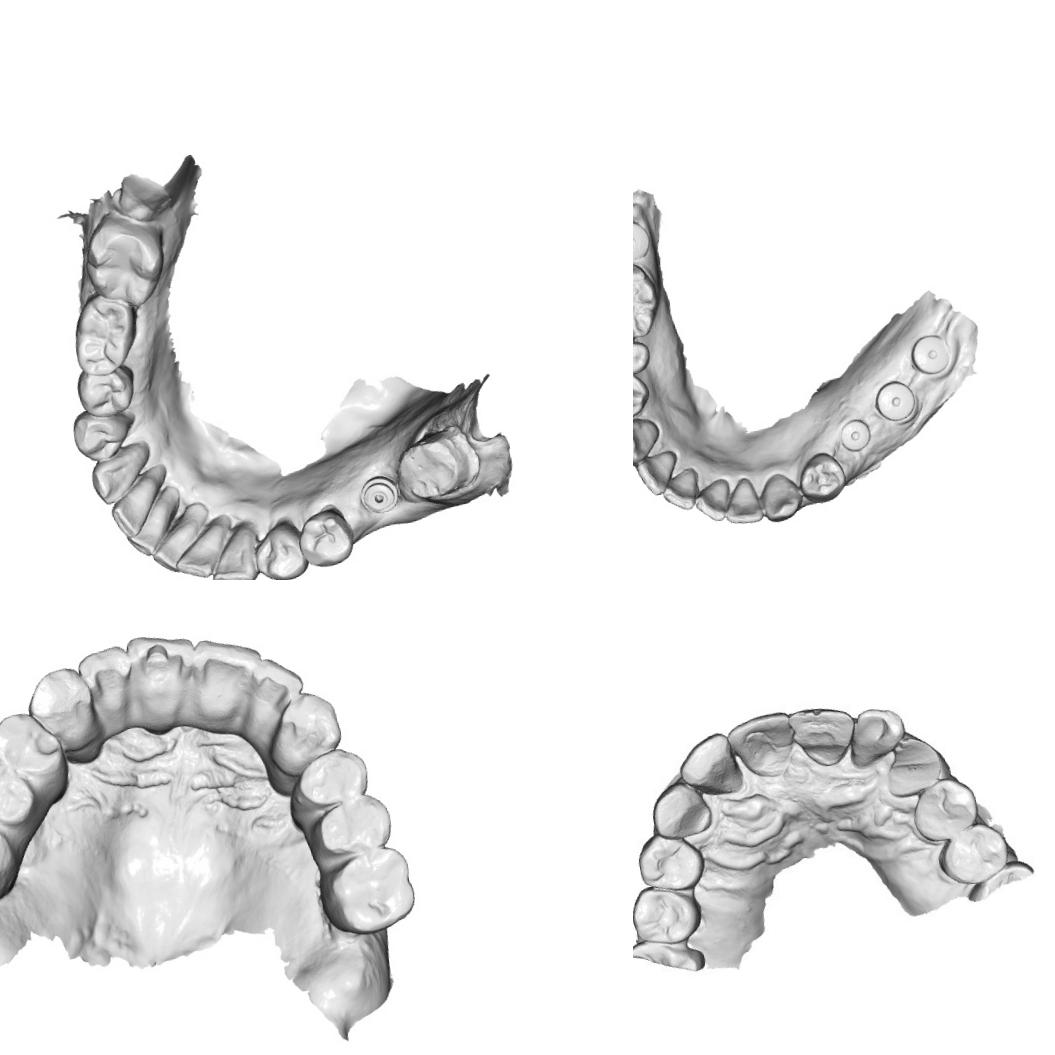canine: (20, 662, 102, 750), (266, 687, 347, 776), (880, 728, 948, 796), (649, 783, 719, 846), (86, 450, 148, 508), (204, 522, 265, 580), (756, 470, 804, 524), (633, 415, 666, 468)
crown: (391, 424, 479, 508)
implant: (907, 331, 954, 378), (872, 378, 918, 426), (356, 471, 400, 516), (837, 416, 873, 454), (633, 218, 652, 263)
incisor: (187, 630, 271, 716), (122, 629, 202, 712), (241, 649, 310, 735), (74, 642, 140, 730), (788, 700, 856, 774), (678, 732, 750, 800), (729, 710, 797, 776), (846, 706, 903, 772), (148, 517, 204, 574), (105, 482, 155, 540), (169, 529, 224, 580), (720, 475, 766, 528), (634, 449, 682, 498), (124, 508, 170, 558), (658, 466, 704, 514), (690, 474, 734, 524)
molar: (313, 842, 422, 940), (77, 210, 172, 316), (66, 286, 145, 380), (633, 260, 666, 345)
premolar: (308, 790, 398, 863), (288, 742, 374, 815), (0, 705, 66, 791), (633, 876, 708, 950), (906, 773, 981, 845), (634, 830, 711, 899), (940, 823, 1016, 891), (294, 503, 358, 572), (68, 406, 138, 468), (72, 362, 140, 423), (250, 517, 312, 580), (794, 448, 850, 506), (0, 753, 39, 836), (633, 370, 654, 424), (633, 335, 652, 379)
